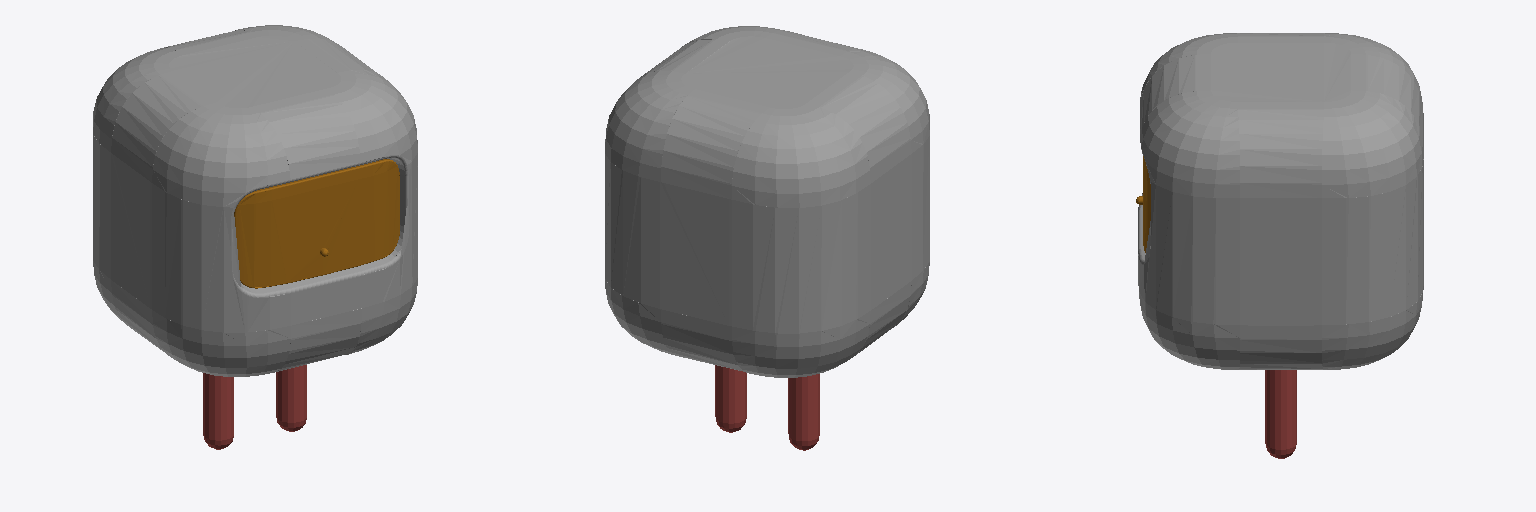
The model's file is cube-modified.obj.
3 views of the same model, side by side, from view 1: azimuth 30°, elevation 25°; view 2: azimuth 150°, elevation 25°; view 3: azimuth 270°, elevation 25° (orthographic).
Parts seen in each view (by area): view 1: body, face, Right_leg, Left_leg; view 2: body, Right_leg, Left_leg; view 3: body, Left_leg, face.
Part boxes in pixels (bbox=[...]): body: bbox=[93, 25, 417, 376]; face: bbox=[234, 159, 399, 288]; Right_leg: bbox=[203, 373, 233, 449]; Left_leg: bbox=[276, 365, 306, 431]; body: bbox=[605, 26, 929, 377]; Right_leg: bbox=[788, 374, 819, 450]; Left_leg: bbox=[715, 365, 746, 432]; body: bbox=[1138, 33, 1423, 369]; Left_leg: bbox=[1265, 370, 1296, 458]; face: bbox=[1136, 156, 1150, 252].
Size of the model in its own units: 0.2992 by 0.4243 by 0.3013.